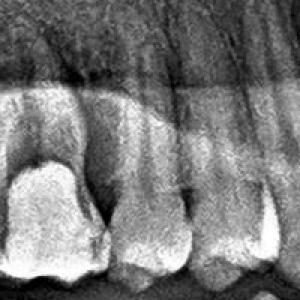tooth: (177, 3, 285, 299), (0, 12, 112, 296), (105, 19, 197, 296)
